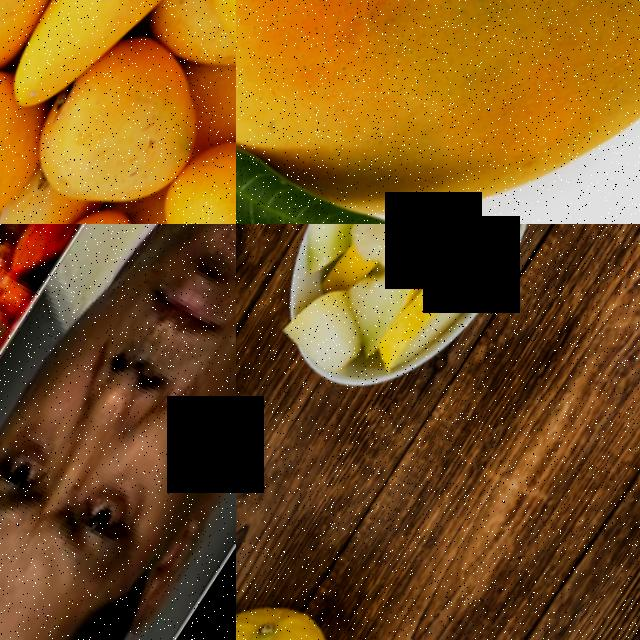lobster tails: (0, 224, 52, 332)
mango: (236, 0, 640, 224), (16, 55, 219, 224), (0, 0, 236, 138), (129, 119, 236, 224), (176, 0, 236, 107)
melon: (236, 304, 272, 596)
